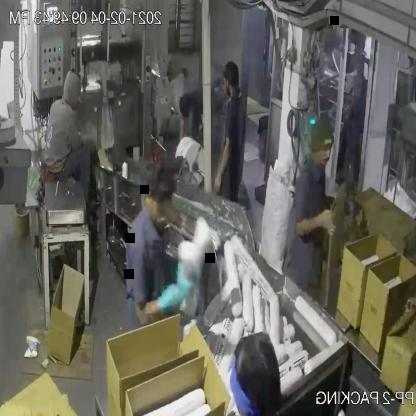glove: (152, 253, 200, 322)
no_glove: (292, 198, 342, 248), (212, 127, 237, 199)
